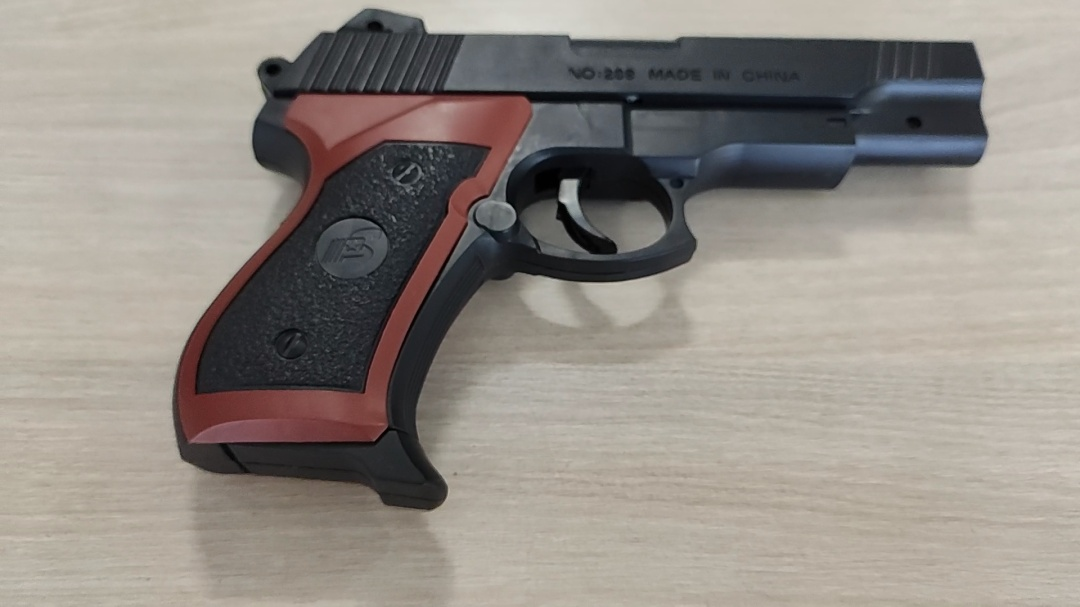gun: (171, 8, 988, 509)
